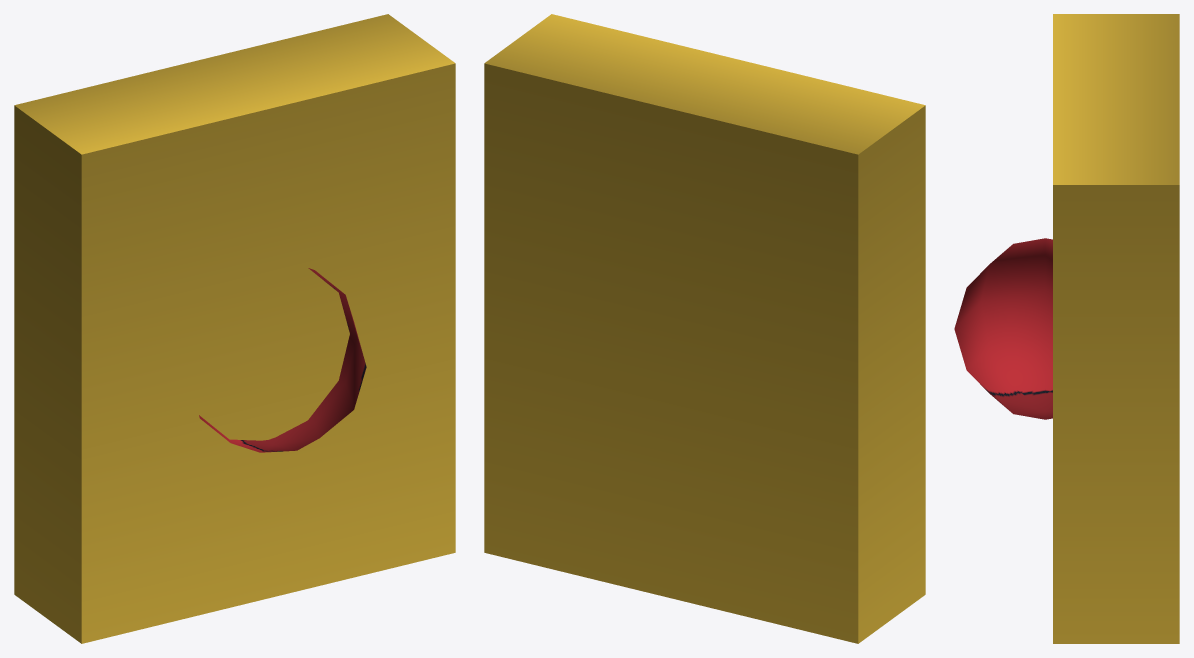
Rendered from npc_portrait_morvath.glb.
3 views of the same model, side by side, from view 1: azimuth 30°, elevation 25°; view 2: azimuth 150°, elevation 25°; view 3: azimuth 270°, elevation 25° (orthographic). The views are drawn at different scales.
Visible parts, largest first — view 1: npc_portrait_morvath; view 2: npc_portrait_morvath; view 3: npc_portrait_morvath.
Part boxes in pixels (box(x1,y1,x2,y2)): npc_portrait_morvath: box(14, 14, 455, 643); npc_portrait_morvath: box(484, 14, 925, 643); npc_portrait_morvath: box(954, 14, 1179, 643).
Bounding box in the file's own units: 0.8 × 1 × 0.445.
1 material, 1 textured.
